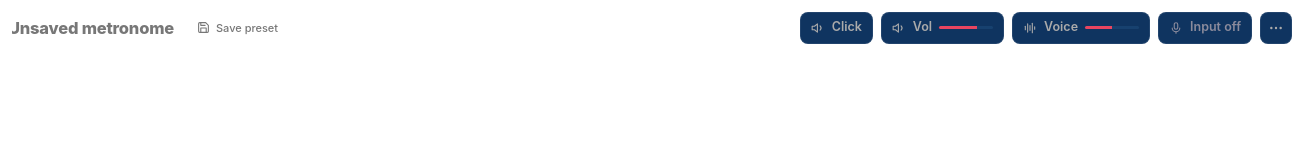
MainHeader — the overflow › opens the share popover from the menu and closes the menu behind it
The image size is (1304, 164).
Click the button named "More" at [1276, 28], box [1260, 12, 1292, 44]
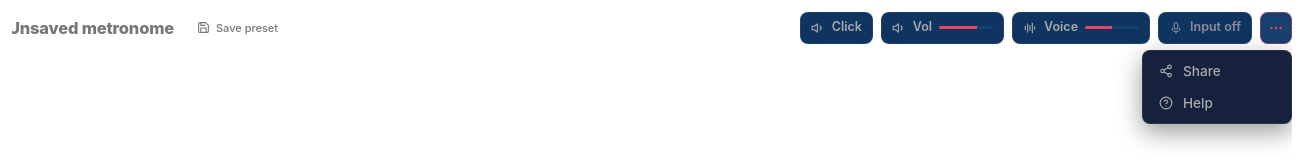
Click the menu item "Share" at [1217, 70], box [1147, 54, 1287, 86]
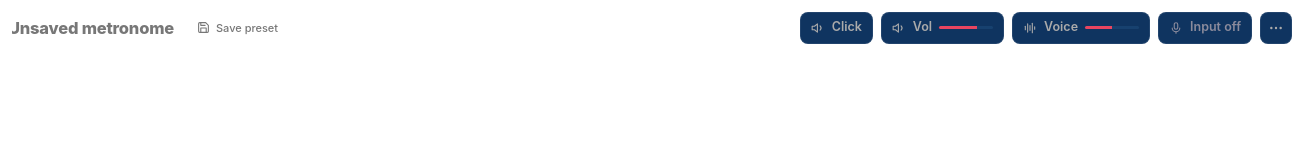
Expected: the menu item "Share" is gone
